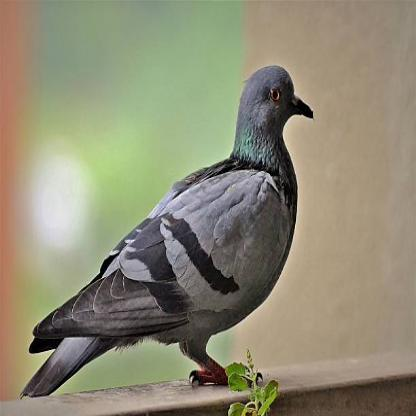Flying Rat: (29, 64, 315, 396)
